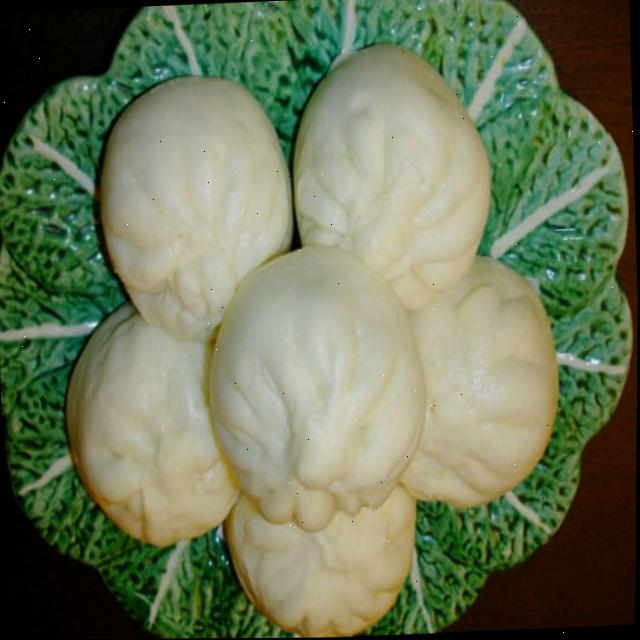带馅早点: (7, 14, 590, 626)
